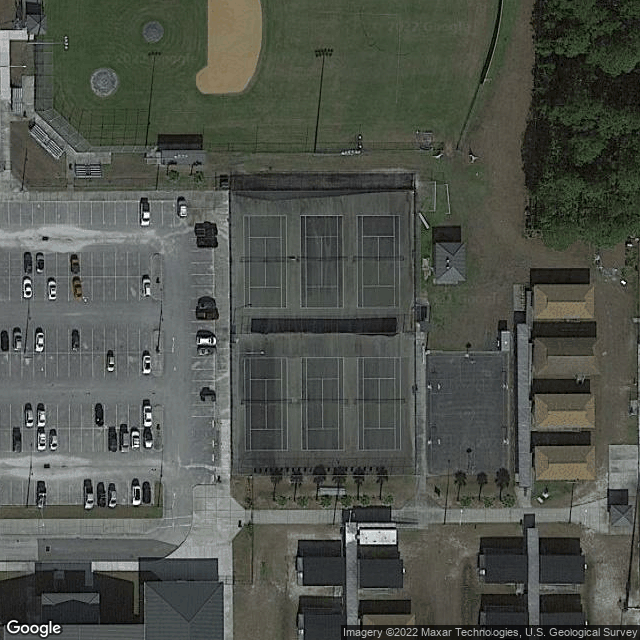Court: (242, 355, 289, 452), (355, 355, 402, 452), (300, 355, 346, 452), (242, 213, 288, 308), (299, 214, 345, 309), (356, 216, 401, 308)
